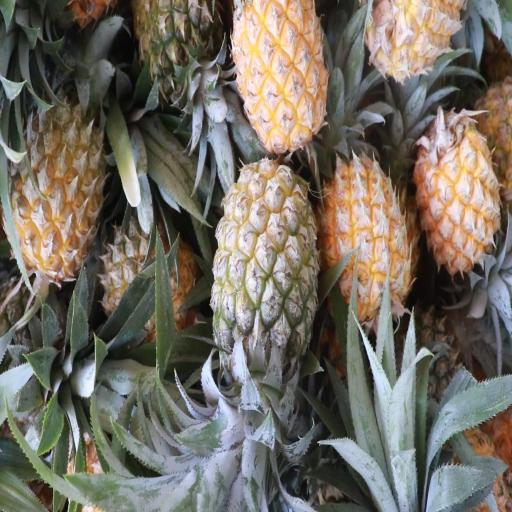------------------------------: (211, 164, 316, 383), (103, 213, 198, 340)
Pineapple - v8 v1: (7, 99, 102, 278), (325, 158, 413, 326), (236, 0, 333, 149), (414, 110, 499, 280)
